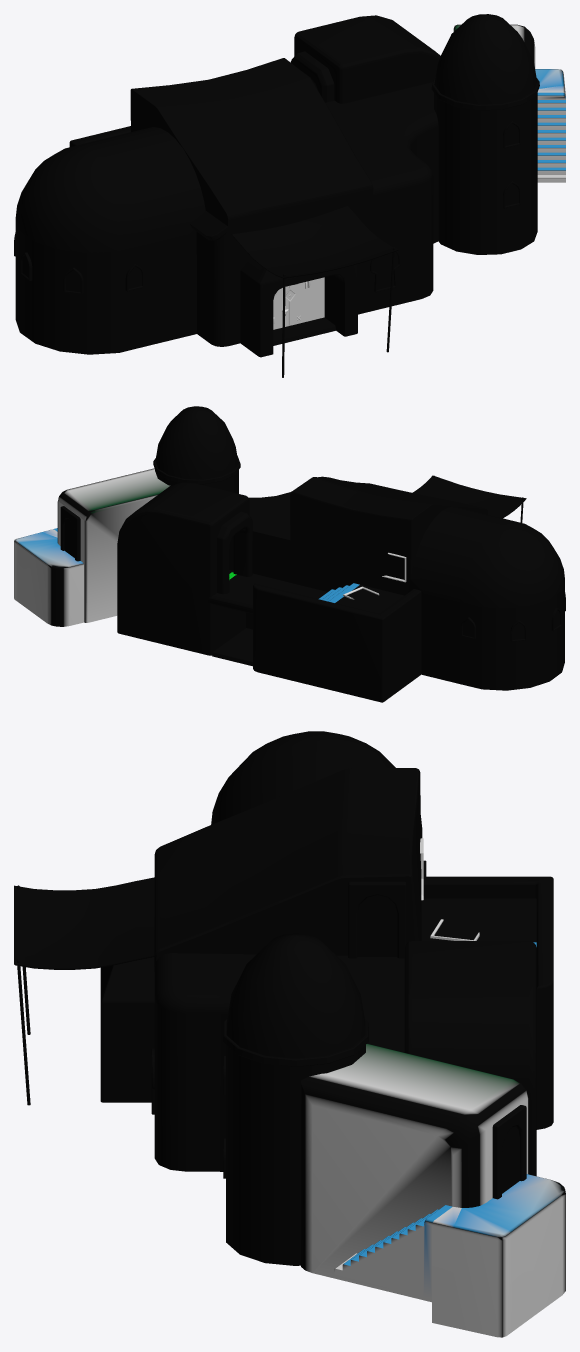
Rendered from SM_Exploiters_House001.fbx.
3 renders of one model, top to bottom at view 1: azimuth 30°, elevation 25°; view 2: azimuth 150°, elevation 25°; view 3: azimuth 270°, elevation 25°, orthographic. The views are drawn at different scales.
Visible parts, largest first — view 1: Habitation1, PorteDroite, PorteGauche; view 2: Habitation1; view 3: Habitation1.
Boxes of the visible parts, bbox=[...] form: Habitation1: bbox=[14, 14, 565, 377]; PorteDroite: bbox=[289, 277, 324, 325]; PorteGauche: bbox=[273, 286, 288, 329]; Habitation1: bbox=[14, 406, 565, 702]; Habitation1: bbox=[14, 731, 565, 1337].
Size of the model in its own units: 3426 by 1177 by 1964.
